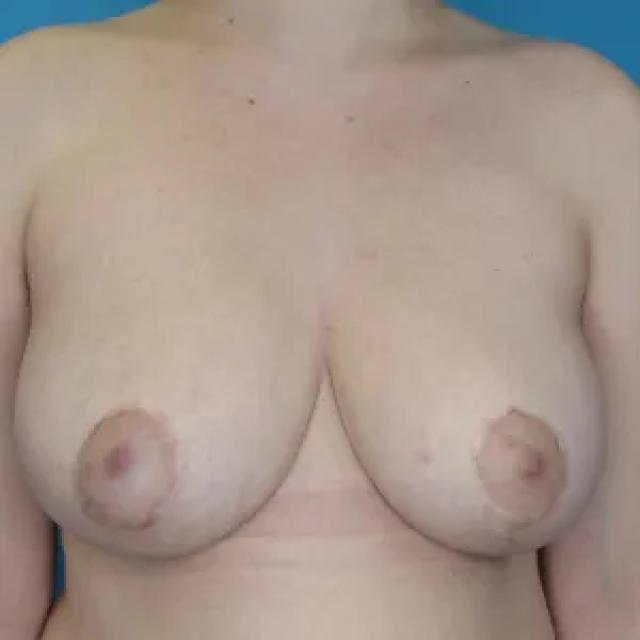Seno ileso: (6, 257, 324, 580), (327, 257, 614, 581)
